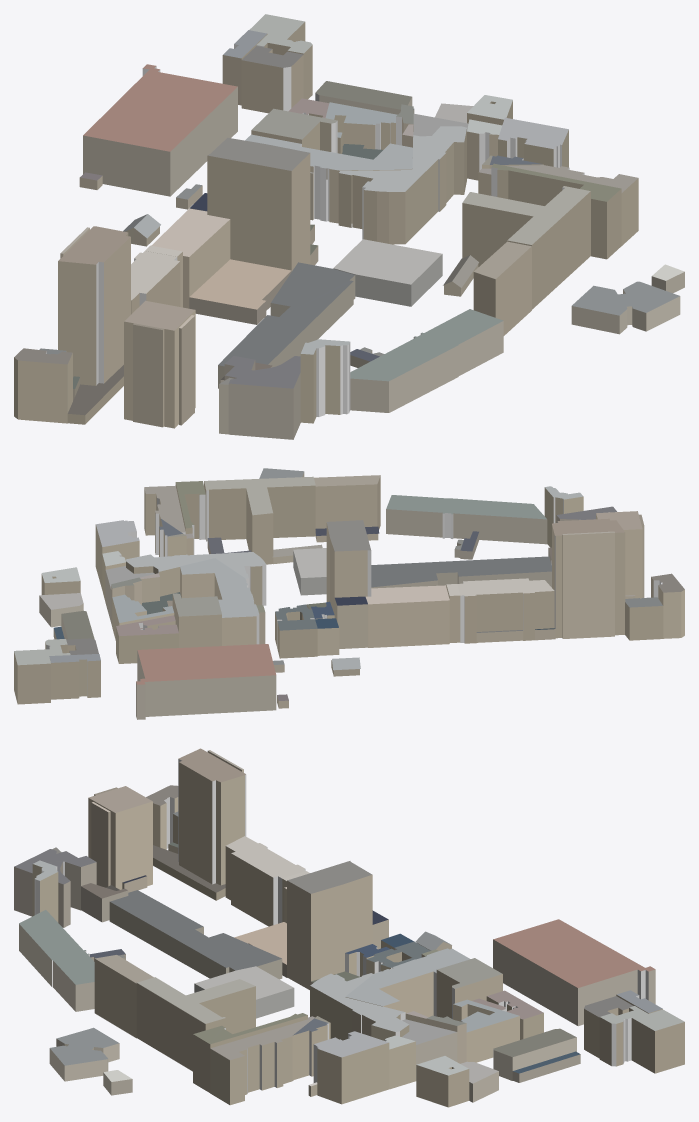
3 views of the same model, one above another, from view 1: azimuth 30°, elevation 25°; view 2: azimuth 150°, elevation 25°; view 3: azimuth 270°, elevation 25° (orthographic). The views are drawn at different scales.
Visible parts, largest first — view 1: tuile; view 2: tuile; view 3: tuile.
Part boxes in pixels (left/top/right/bottom): tuile: left=14, top=14, right=684, bottom=439; tuile: left=14, top=468, right=684, bottom=719; tuile: left=14, top=748, right=684, bottom=1107.
Size of the model in its own units: 265 by 52.79 by 275.
